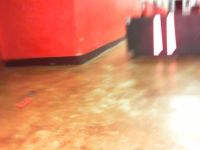switch: (166, 12, 177, 56), (152, 14, 163, 57)
